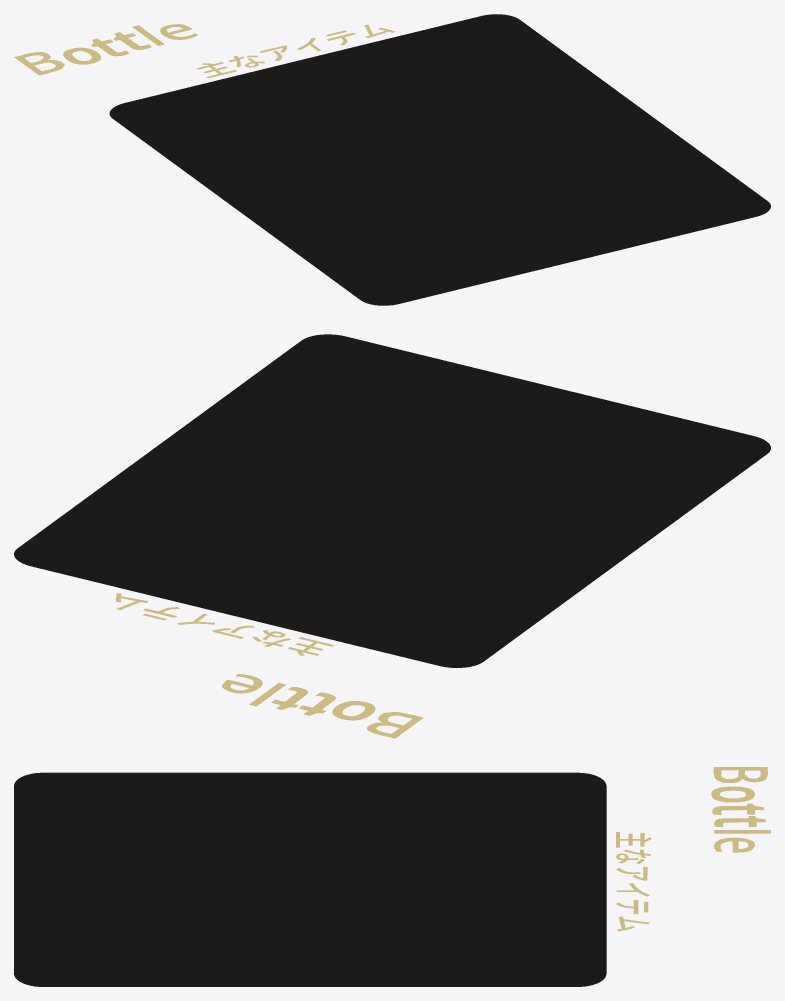
File: ButtonPanel.fbx
The picture shows the model from 3 angles, top to bottom: view 1: azimuth 30°, elevation 25°; view 2: azimuth 150°, elevation 25°; view 3: azimuth 270°, elevation 25°; orthographic projection. The views are drawn at different scales.
Visible parts, largest first — view 1: Curve.015, Curve.001; view 2: Curve.015; view 3: Curve.015, Curve.001, Curve.002.
Part boxes in pixels (bbox=[...]): Curve.015: bbox=[109, 14, 770, 305]; Curve.001: bbox=[14, 52, 64, 75]; Curve.015: bbox=[14, 334, 770, 667]; Curve.015: bbox=[14, 772, 606, 986]; Curve.001: bbox=[713, 767, 767, 782]; Curve.002: bbox=[711, 786, 754, 802].
Size of the model in its own units: 4.83 by 1.14e-06 by 7.02.
